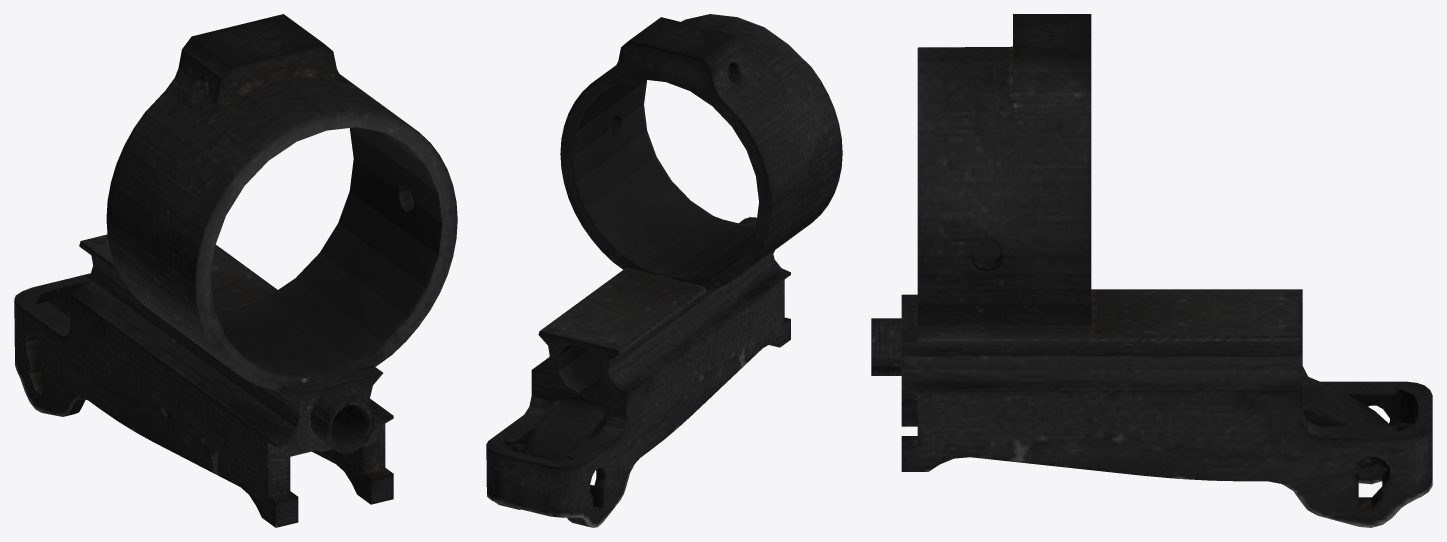
3 renders of one model, left to right at view 1: azimuth 30°, elevation 25°; view 2: azimuth 150°, elevation 25°; view 3: azimuth 270°, elevation 25°, orthographic. The views are drawn at different scales.
Visible parts, largest first — view 1: TW_5c471c2d2e22164bef5d077f_PZ_Import; view 2: TW_5c471c2d2e22164bef5d077f_PZ_Import; view 3: TW_5c471c2d2e22164bef5d077f_PZ_Import.
Part boxes in pixels (left/top/right/bottom): TW_5c471c2d2e22164bef5d077f_PZ_Import: left=14, top=14, right=457, bottom=527; TW_5c471c2d2e22164bef5d077f_PZ_Import: left=486, top=14, right=842, bottom=527; TW_5c471c2d2e22164bef5d077f_PZ_Import: left=871, top=14, right=1432, bottom=527.
Bounding box in the file's own units: 0.0199 × 0.0377 × 0.0343.
Materials: 1 (1 with a texture image).
